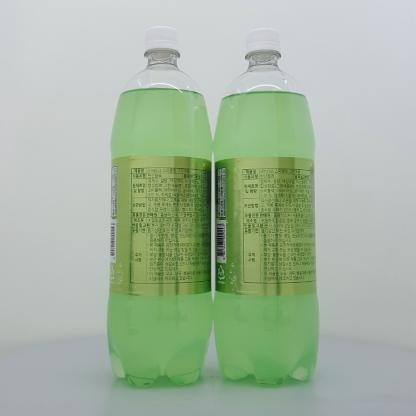----------------: (212, 27, 319, 385), (107, 26, 212, 387)
